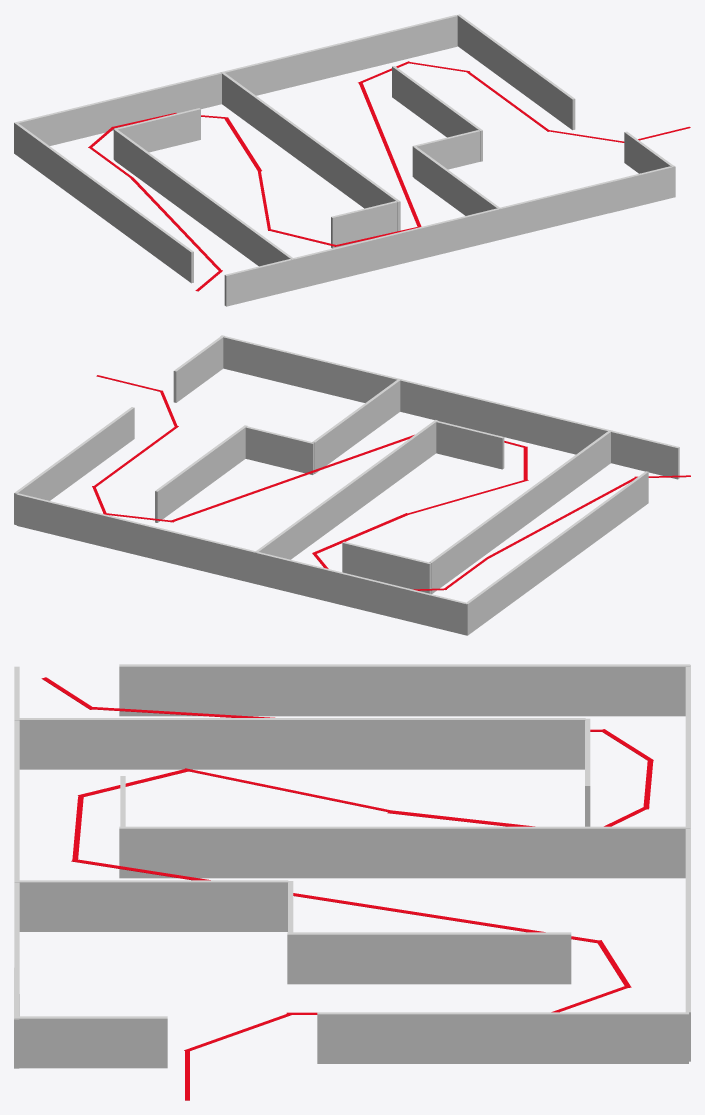
File: map2.dae
3 views of the same model, one above another, from view 1: azimuth 30°, elevation 25°; view 2: azimuth 150°, elevation 25°; view 3: azimuth 270°, elevation 25° (orthographic). The views are drawn at different scales.
Parts seen in each view (by area): view 1: Cube.005, Cube.006, Cube.003, Cube.001, Cube.002, Cube.012, Cube.009, Cube.008, Cube.026, Cube.004, Cube.011, Cube.015 (+1 smaller); view 2: Cube.005, Cube.006, Cube.003, Cube.001, Cube.002, Cube.012, Cube.009, Cube.008, Cube.011, Cube.004, Cube.015, Cube.026 (+2 smaller); view 3: Cube.003, Cube.002, Cube.001, Cube.012, Cube.009, Cube.008, Cube.015, Cube.005, Cube.006, Cube.021.
Part boxes in pixels (<box>): Cube.005: <box>17,15,457,145</box>; Cube.006: <box>224,173,642,306</box>; Cube.003: <box>113,108,294,266</box>; Cube.001: <box>14,122,193,283</box>; Cube.002: <box>220,71,400,230</box>; Cube.012: <box>457,14,575,130</box>; Cube.009: <box>392,66,482,161</box>; Cube.008: <box>413,146,500,215</box>; Cube.026: <box>609,165,675,213</box>; Cube.004: <box>331,201,397,248</box>; Cube.011: <box>412,130,479,176</box>; Cube.015: <box>624,131,674,173</box>; Cube.005: <box>16,493,467,635</box>; Cube.006: <box>253,343,679,479</box>; Cube.003: <box>342,430,612,593</box>; Cube.001: <box>465,471,648,635</box>; Cube.002: <box>255,420,438,559</box>; Cube.012: <box>14,407,134,524</box>; Cube.009: <box>155,425,247,522</box>; Cube.008: <box>312,378,401,473</box>; Cube.011: <box>245,426,314,474</box>; Cube.004: <box>436,421,504,469</box>; Cube.015: <box>173,335,224,402</box>; Cube.026: <box>220,335,253,375</box>; Cube.003: <box>14,718,590,826</box>; Cube.002: <box>119,826,690,878</box>; Cube.001: <box>119,664,690,716</box>; Cube.012: <box>317,1012,688,1063</box>; Cube.009: <box>287,932,571,984</box>; Cube.008: <box>14,880,288,931</box>; Cube.015: <box>14,1016,167,1068</box>; Cube.005: <box>685,665,690,1061</box>; Cube.006: <box>14,666,19,1015</box>; Cube.021: <box>71,859,599,943</box>.
Size of the model in its own units: 395 by 267 by 21.69.
